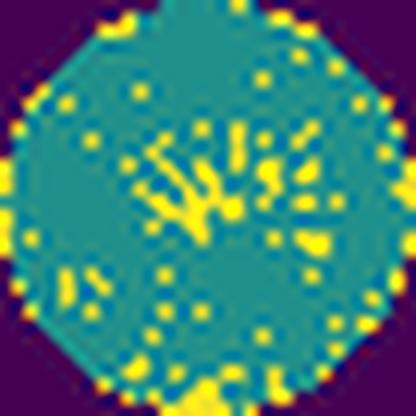Center: (130, 131, 246, 252)
